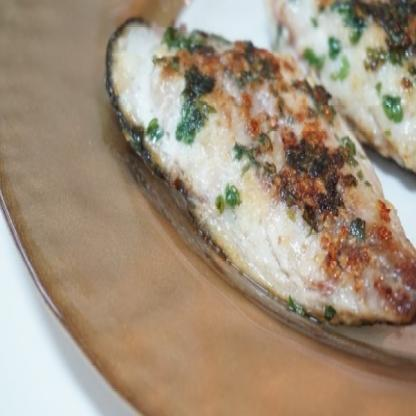Peixe: (110, 12, 416, 334)
